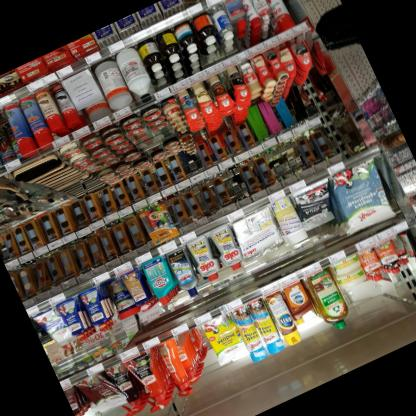empty_space: (174, 323, 225, 388), (265, 147, 300, 189), (221, 167, 255, 209), (290, 80, 322, 121), (283, 139, 313, 180), (281, 89, 309, 126)
